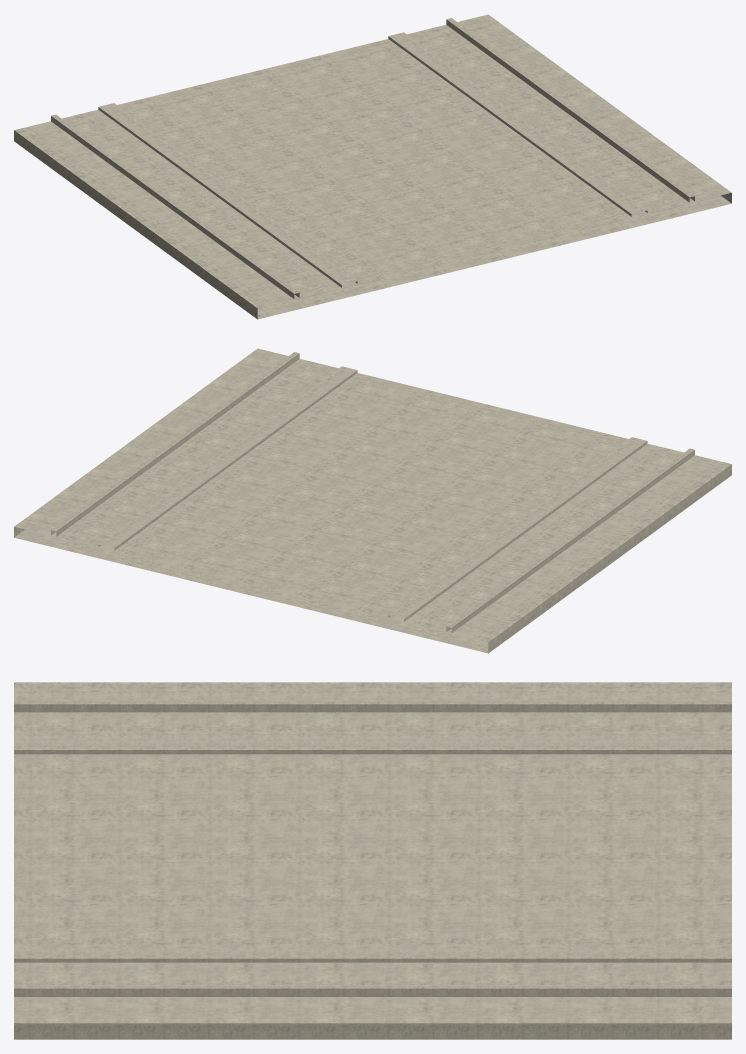
Rendered from SuspBridgeBase-4L-40M.FBX.
3 renders of one model, top to bottom at view 1: azimuth 30°, elevation 25°; view 2: azimuth 150°, elevation 25°; view 3: azimuth 270°, elevation 25°, orthographic. The views are drawn at different scales.
Parts seen in each view (by area): view 1: SuspBridgeBase-4L-40M; view 2: SuspBridgeBase-4L-40M; view 3: SuspBridgeBase-4L-40M.
Boxes of the visible parts, x1=… form: SuspBridgeBase-4L-40M: x1=14, y1=14, x2=731, y2=319; SuspBridgeBase-4L-40M: x1=14, y1=348, x2=731, y2=653; SuspBridgeBase-4L-40M: x1=14, y1=682, x2=731, y2=1039.
Bounding box in the file's own units: 45 × 1.5 × 40.
